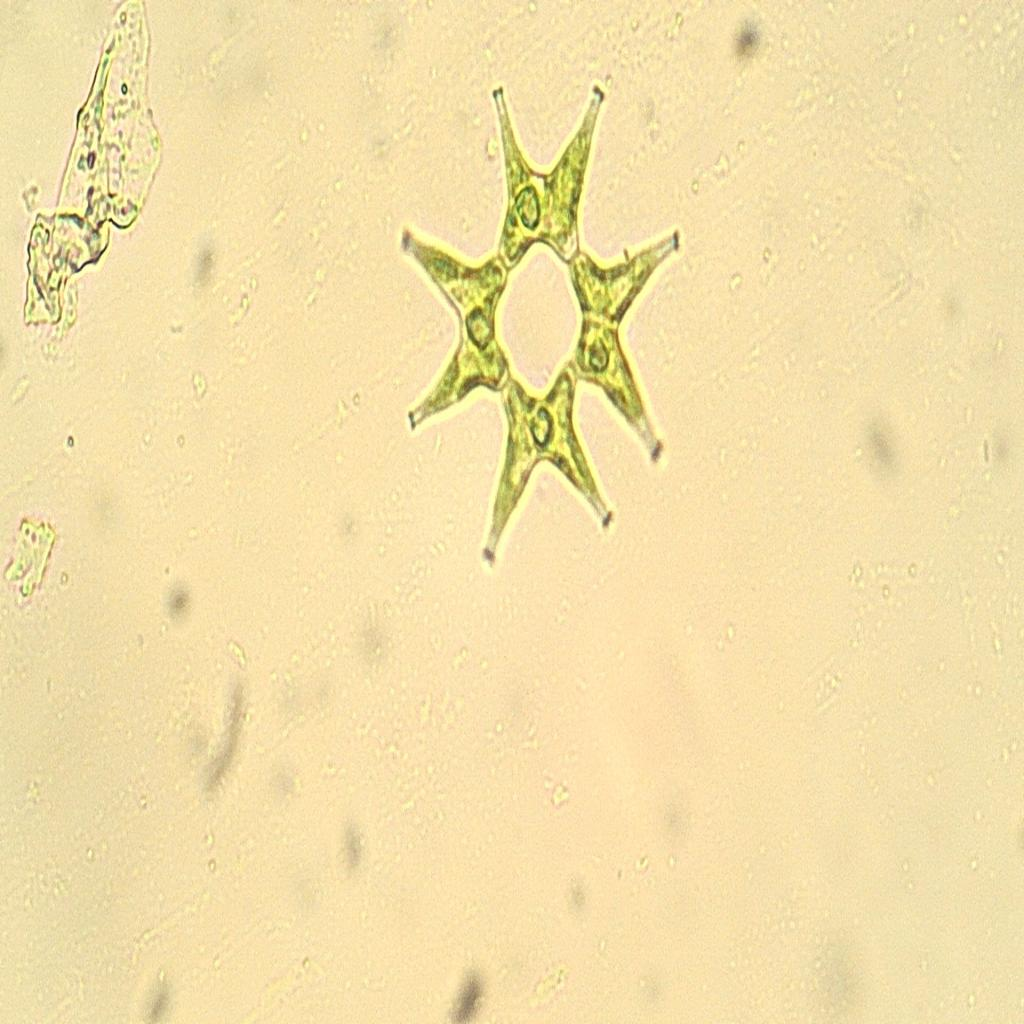Pediastrum_CO: (383, 64, 697, 592)
